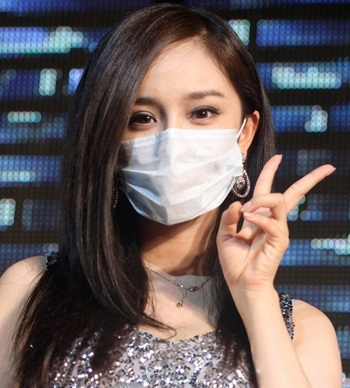face_mask: (110, 42, 238, 230)
